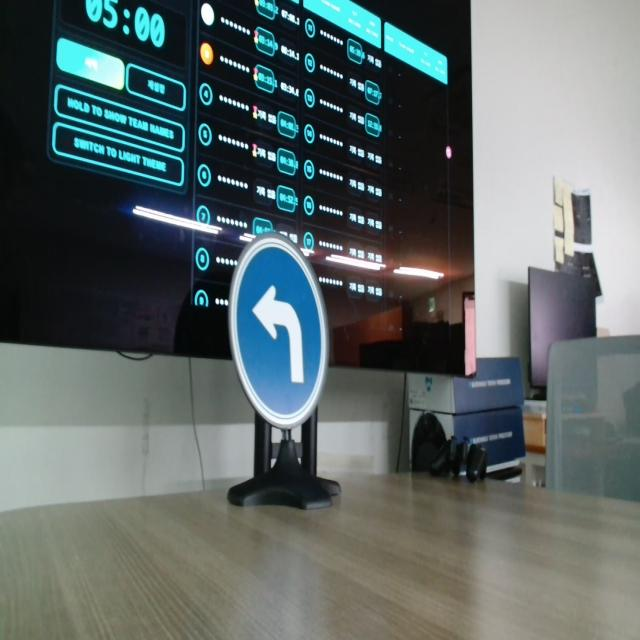left_direction: (222, 230, 366, 459)
